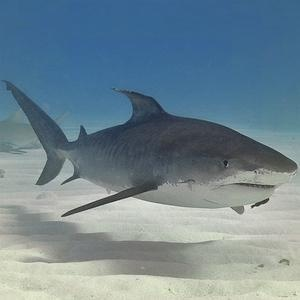fish: (3, 77, 300, 220)
